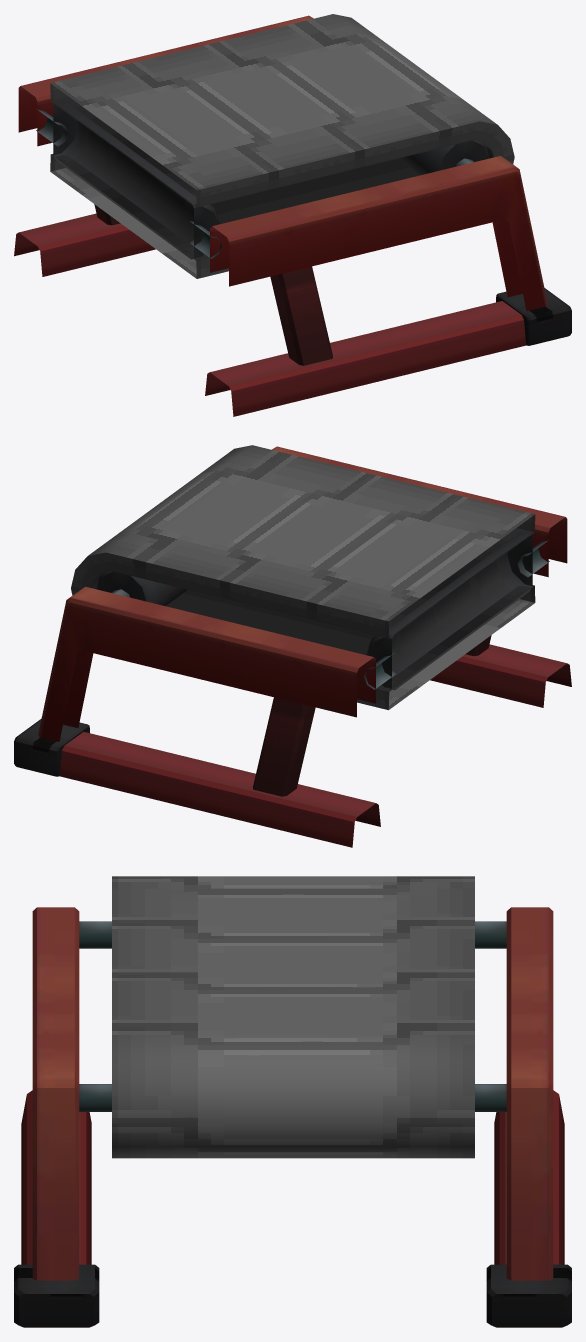
The model's file is [gimmick]beltL.fbx.
The picture shows the model from 3 angles, top to bottom: view 1: azimuth 30°, elevation 25°; view 2: azimuth 150°, elevation 25°; view 3: azimuth 270°, elevation 25°; orthographic projection. The views are drawn at different scales.
Parts seen in each view (by area): view 1: [gimmick]beltL, beltL; view 2: [gimmick]beltL, beltL; view 3: beltL, [gimmick]beltL.
Part boxes in pixels (left/top/right/bottom): [gimmick]beltL: left=14, top=15, right=571, bottom=416; beltL: left=50, top=14, right=514, bottom=278; [gimmick]beltL: left=14, top=446, right=571, bottom=847; beltL: left=71, top=445, right=535, bottom=710; beltL: left=112, top=876, right=474, bottom=1158; [gimmick]beltL: left=14, top=907, right=571, bottom=1327.
Size of the model in its own units: 1.07 by 0.6025 by 1.23.
